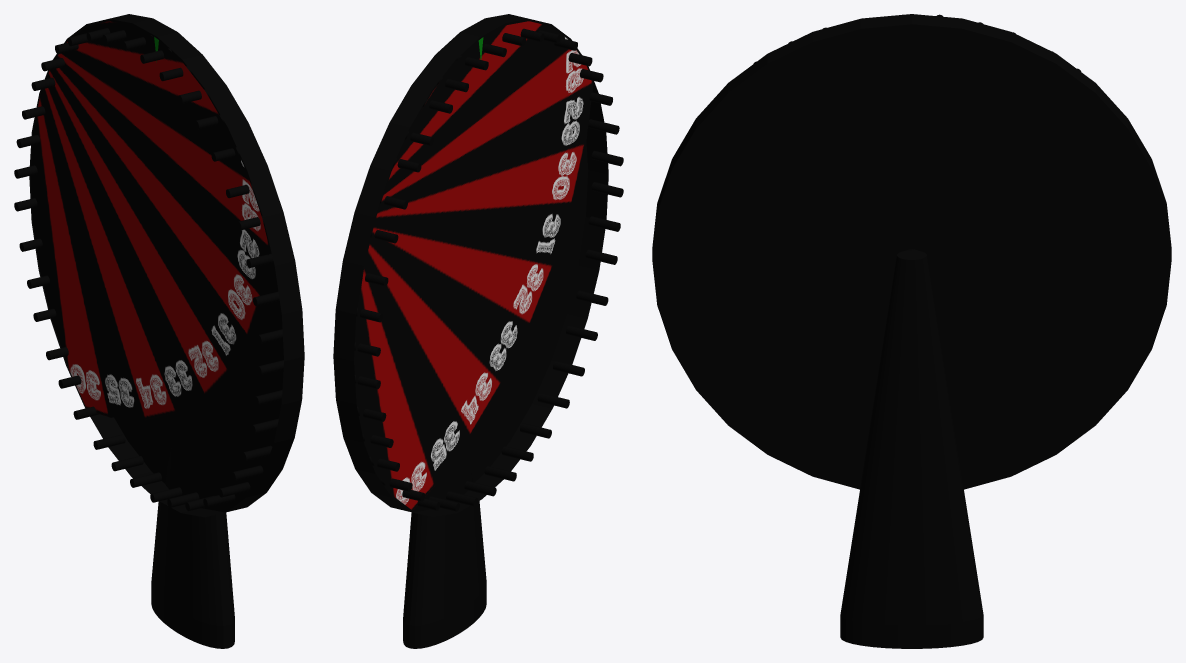
Rendered from Roleta.fbx.
3 views of the same model, side by side, from view 1: azimuth 30°, elevation 25°; view 2: azimuth 150°, elevation 25°; view 3: azimuth 270°, elevation 25° (orthographic).
Visible parts, largest first — view 1: Cylinder.003, Cylinder.001, Cylinder; view 2: Cylinder.003, Cylinder.001, Cylinder; view 3: Cylinder.001, Cylinder.
Boxes of the visible parts, x1=… form: Cylinder.003: x1=30, y1=21, x2=269, y2=420; Cylinder.001: x1=29, y1=14, x2=304, y2=517; Cylinder: x1=151, y1=432, x2=234, y2=648; Cylinder.003: x1=355, y1=21, x2=593, y2=510; Cylinder.001: x1=333, y1=14, x2=608, y2=517; Cylinder: x1=403, y1=443, x2=486, y2=648; Cylinder.001: x1=652, y1=14, x2=1171, y2=489; Cylinder: x1=840, y1=250, x2=983, y2=648.
Bounding box in the file's own units: 64.92 × 473 × 367.
42 materials, 1 textured.
